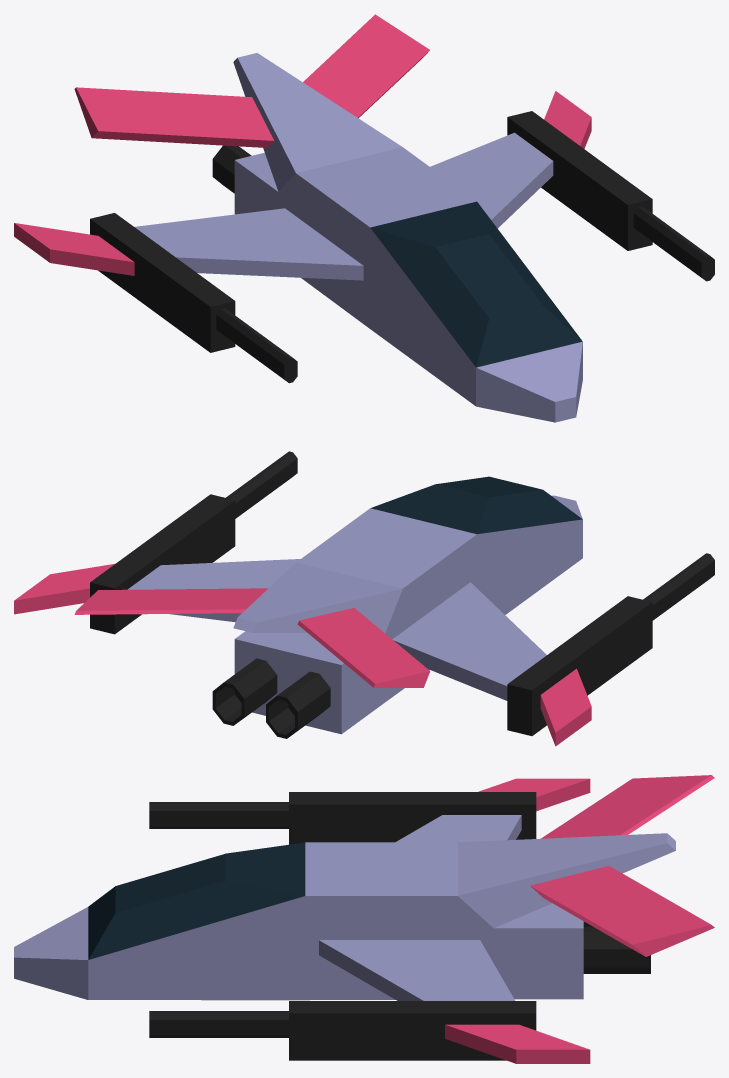
Rendered from PlayerModel.glb.
The picture shows the model from 3 angles, top to bottom: view 1: azimuth 30°, elevation 25°; view 2: azimuth 150°, elevation 25°; view 3: azimuth 270°, elevation 25°; orthographic projection. The views are drawn at different scales.
Parts seen in each view (by area): view 1: Cube; view 2: Cube; view 3: Cube.
Part boxes in pixels (x1,y1,x2,y2): Cube: (14,14,714,422); Cube: (14,451,714,746); Cube: (14,775,714,1063).
Bounding box in the file's own units: 11.23 × 2.61 × 12.27.
